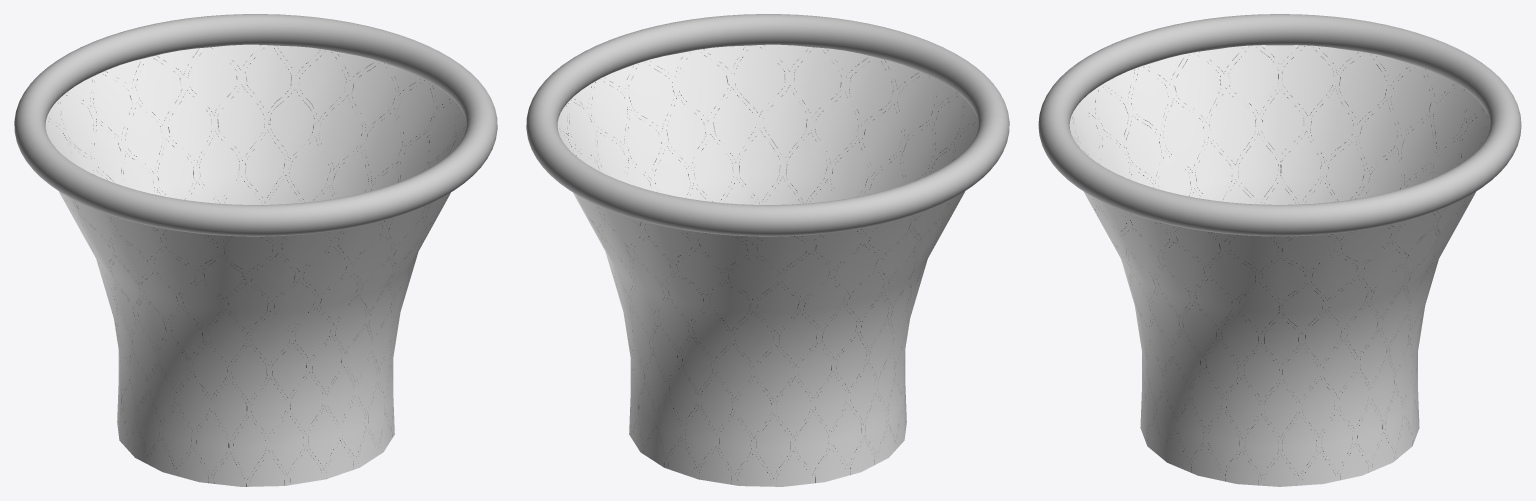
Rendered from basket.fbx.
The picture shows the model from 3 angles, left to right: view 1: azimuth 30°, elevation 25°; view 2: azimuth 150°, elevation 25°; view 3: azimuth 270°, elevation 25°; orthographic projection.
Parts seen in each view (by area): view 1: pPipe1, pTorus1; view 2: pPipe1, pTorus1; view 3: pPipe1, pTorus1.
Boxes of the visible parts, bbox=[...] form: pPipe1: bbox=[45, 44, 466, 486]; pTorus1: bbox=[14, 14, 497, 236]; pPipe1: bbox=[557, 44, 978, 486]; pTorus1: bbox=[526, 14, 1009, 236]; pPipe1: bbox=[1069, 45, 1490, 486]; pTorus1: bbox=[1038, 14, 1521, 236].
Size of the model in its own units: 5.23 by 3.79 by 5.23.
